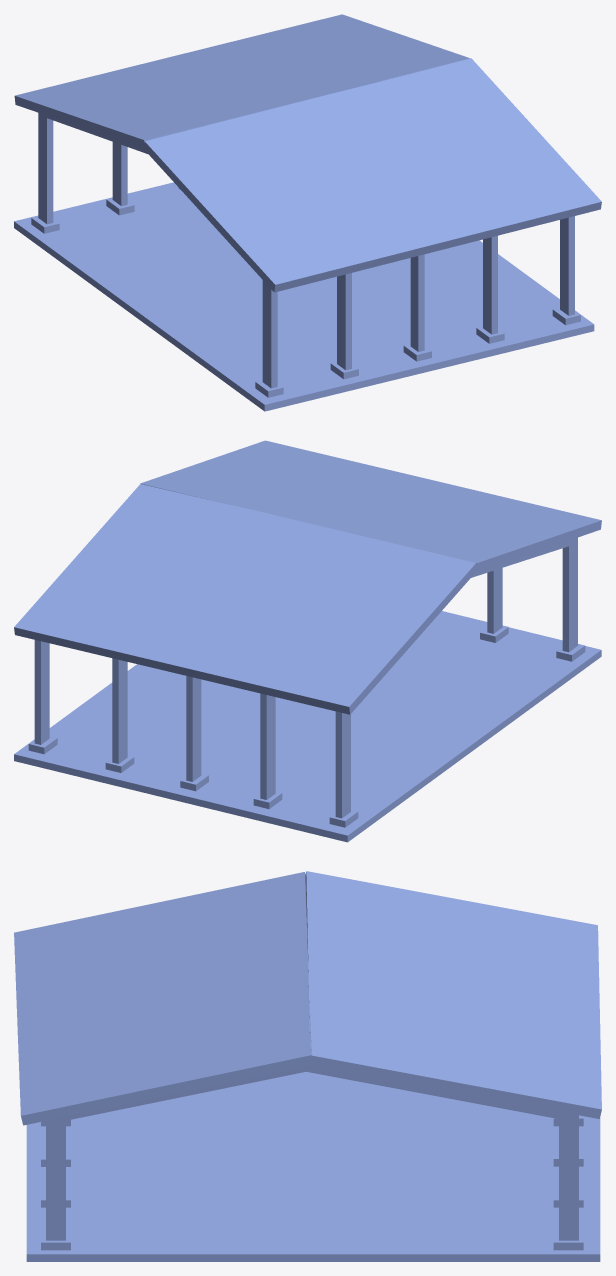
The model's file is GabaldonNav.glb.
3 views of the same model, one above another, from view 1: azimuth 30°, elevation 25°; view 2: azimuth 150°, elevation 25°; view 3: azimuth 270°, elevation 25° (orthographic). The views are drawn at different scales.
Visible parts, largest first — view 1: Cube.007, Cube.002, Cube.008, Cube.001, Cube.003, Cube.017, Cube.016, Cube.015, Cube.004, Cube.006; view 2: Cube.008, Cube.002, Cube.007, Cube.003, Cube.001, Cube.006, Cube.010, Cube.011, Cube.012, Cube.004, Cube.005; view 3: Cube.002, Cube.007, Cube.008, Cube.018, Cube.012, Cube.017.
Part boxes in pixels (bbox=[...]): Cube.007: bbox=[143, 58, 601, 292]; Cube.002: bbox=[14, 182, 594, 411]; Cube.008: bbox=[14, 14, 469, 148]; Cube.001: bbox=[38, 113, 53, 224]; Cube.003: bbox=[262, 280, 277, 388]; Cube.017: bbox=[560, 216, 574, 315]; Cube.016: bbox=[483, 235, 497, 334]; Cube.015: bbox=[410, 254, 424, 351]; Cube.004: bbox=[337, 273, 351, 370]; Cube.006: bbox=[112, 142, 127, 205]; Cube.008: bbox=[14, 484, 476, 714]; Cube.002: bbox=[14, 611, 601, 842]; Cube.007: bbox=[140, 440, 601, 572]; Cube.003: bbox=[562, 537, 577, 652]; Cube.001: bbox=[335, 711, 350, 818]; Cube.006: bbox=[260, 693, 275, 799]; Cube.010: bbox=[186, 676, 201, 781]; Cube.011: bbox=[112, 658, 127, 763]; Cube.012: bbox=[34, 640, 49, 744]; Cube.004: bbox=[487, 568, 502, 633]; Cube.005: bbox=[471, 539, 573, 577]; Cube.002: bbox=[26, 1072, 600, 1261]; Cube.007: bbox=[14, 872, 313, 1125]; Cube.008: bbox=[305, 871, 601, 1118]; Cube.018: bbox=[57, 1065, 561, 1122]; Cube.012: bbox=[559, 1112, 578, 1240]; Cube.017: bbox=[46, 1118, 65, 1240].
Bounding box in the file's own units: 18.3 × 9.48 × 24.31.
